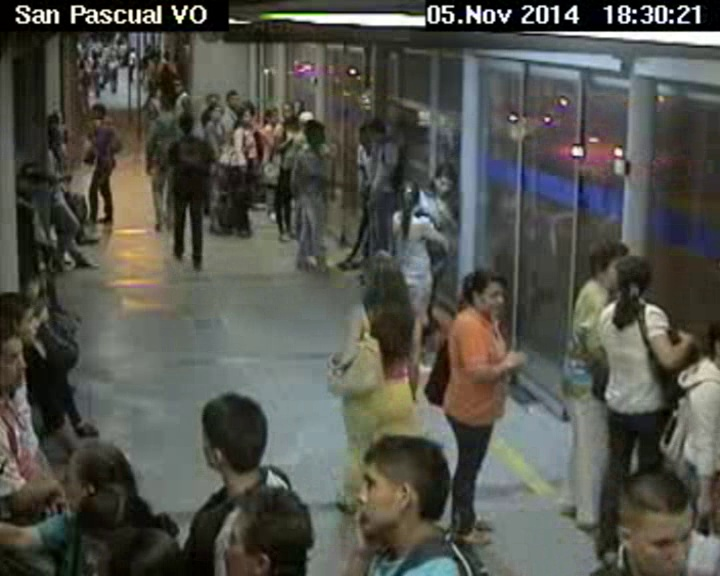person: (353, 429, 455, 549), (607, 459, 703, 576), (221, 474, 317, 576), (193, 386, 267, 478), (62, 436, 136, 519), (357, 250, 406, 332), (453, 262, 510, 318), (585, 237, 640, 293), (610, 257, 651, 311), (1, 293, 46, 340), (389, 179, 431, 222), (1, 336, 29, 398), (15, 159, 46, 198), (425, 163, 460, 197), (701, 315, 720, 375), (176, 110, 196, 139), (301, 122, 325, 145), (365, 119, 390, 138), (200, 103, 224, 122), (47, 125, 61, 153), (147, 82, 163, 103), (225, 88, 241, 107), (89, 101, 104, 121), (263, 104, 278, 124), (170, 80, 192, 93), (236, 107, 251, 126), (158, 95, 172, 114), (281, 102, 293, 120)
